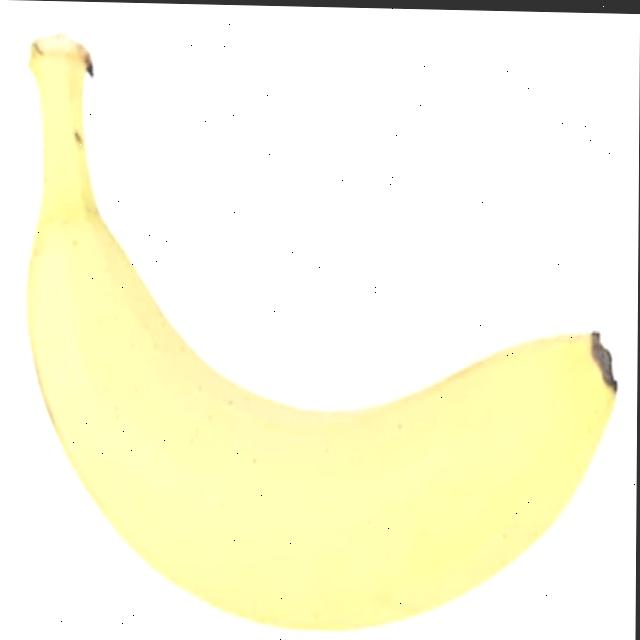banana: (8, 51, 630, 640)
